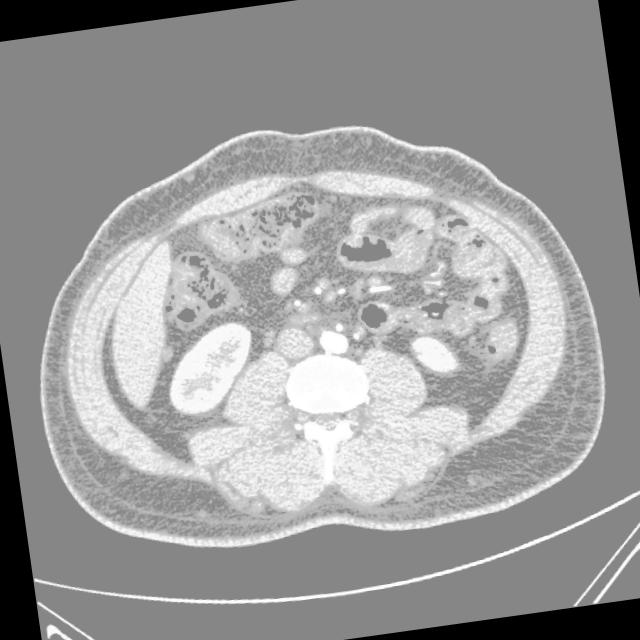NORMAL: (36, 90, 596, 552)
